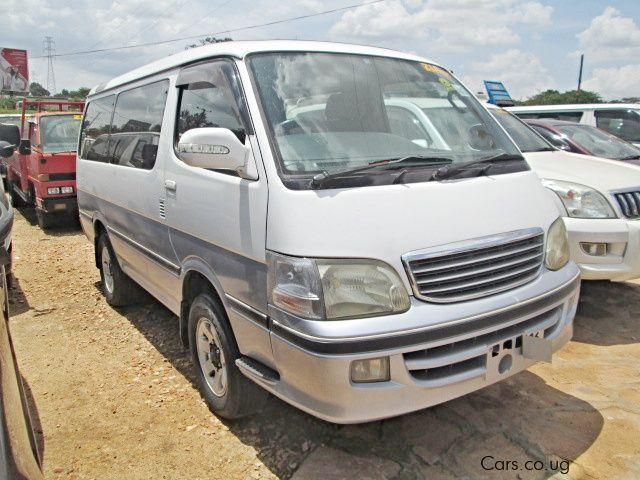van: (74, 37, 578, 425)
